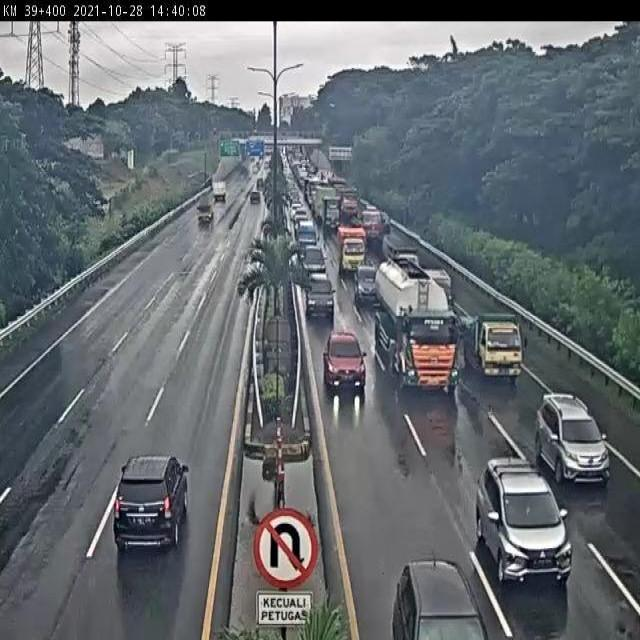car: (474, 456, 572, 584), (111, 459, 189, 548), (537, 392, 612, 480), (323, 330, 367, 390), (305, 273, 336, 316), (351, 265, 380, 308), (300, 241, 329, 275)
truck-l-: (374, 253, 460, 388)
truck-m-: (459, 308, 528, 380), (336, 223, 369, 276)
